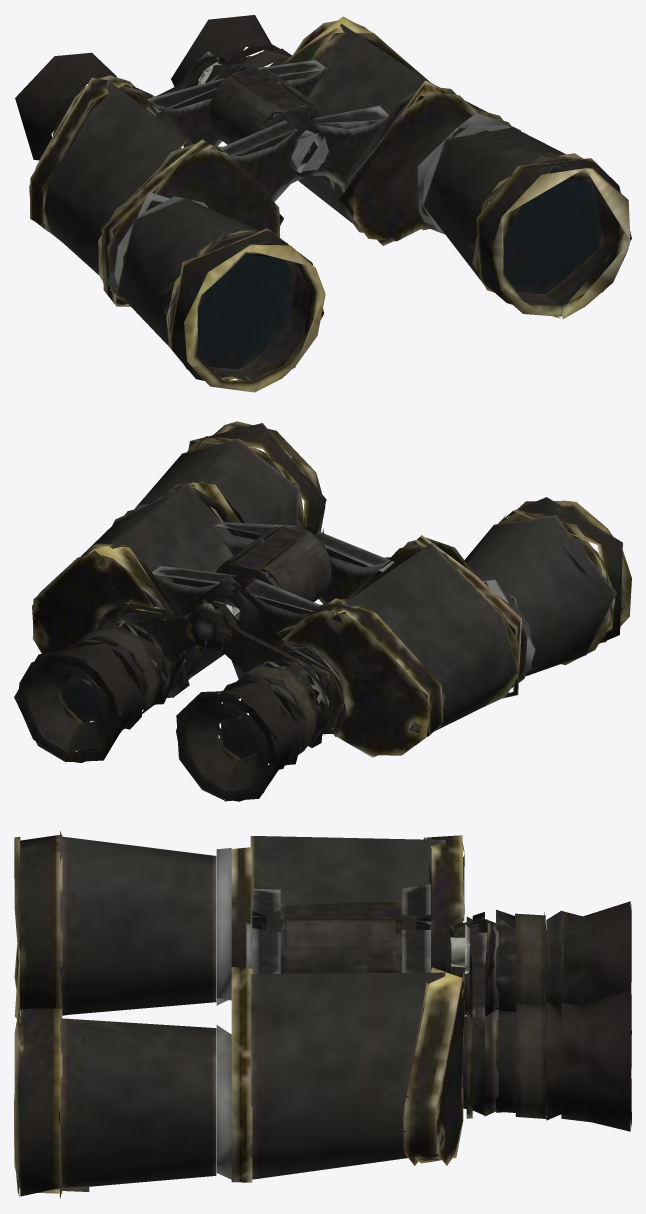
Rendered from brass_binocular.glb.
3 renders of one model, top to bottom at view 1: azimuth 30°, elevation 25°; view 2: azimuth 150°, elevation 25°; view 3: azimuth 270°, elevation 25°, orthographic. The views are drawn at different scales.
Parts seen in each view (by area): view 1: vintage_binocular_left_lens; view 2: vintage_binocular_left_lens; view 3: vintage_binocular_left_lens.
Boxes of the visible parts, x1=… form: vintage_binocular_left_lens: x1=15, y1=15, x2=631, y2=392; vintage_binocular_left_lens: x1=14, y1=421, x2=631, y2=801; vintage_binocular_left_lens: x1=14, y1=831, x2=631, y2=1198.
Bounding box in the file's own units: 0.1957 × 0.074 × 0.1997.
Materials: 1 (1 with a texture image).
